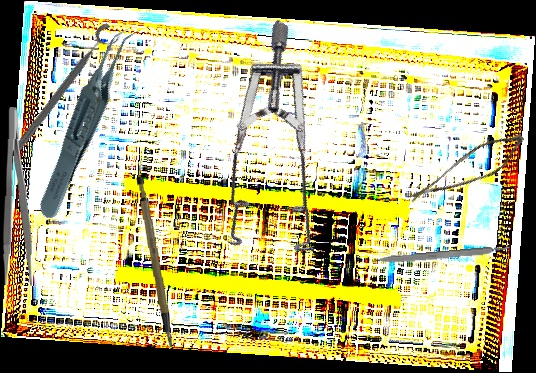Dressing Forceps: (0, 107, 38, 286)
Fixation Ring: (11, 21, 123, 159)
Micro Scissor: (405, 115, 530, 228)
Scalpel Handle: (134, 176, 173, 349), (374, 245, 512, 266)
Speculum: (154, 19, 412, 286)
Tissue Forceps: (2, 19, 177, 223)
